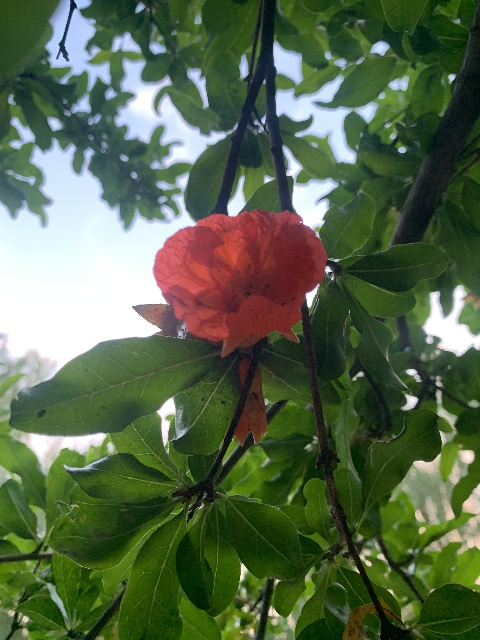flower: (151, 207, 329, 357), (233, 357, 267, 446)
